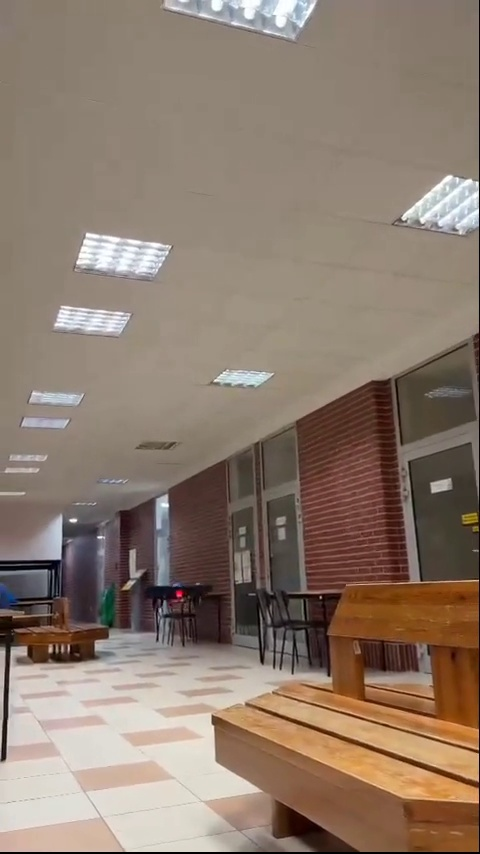drone: (144, 581, 212, 603)
